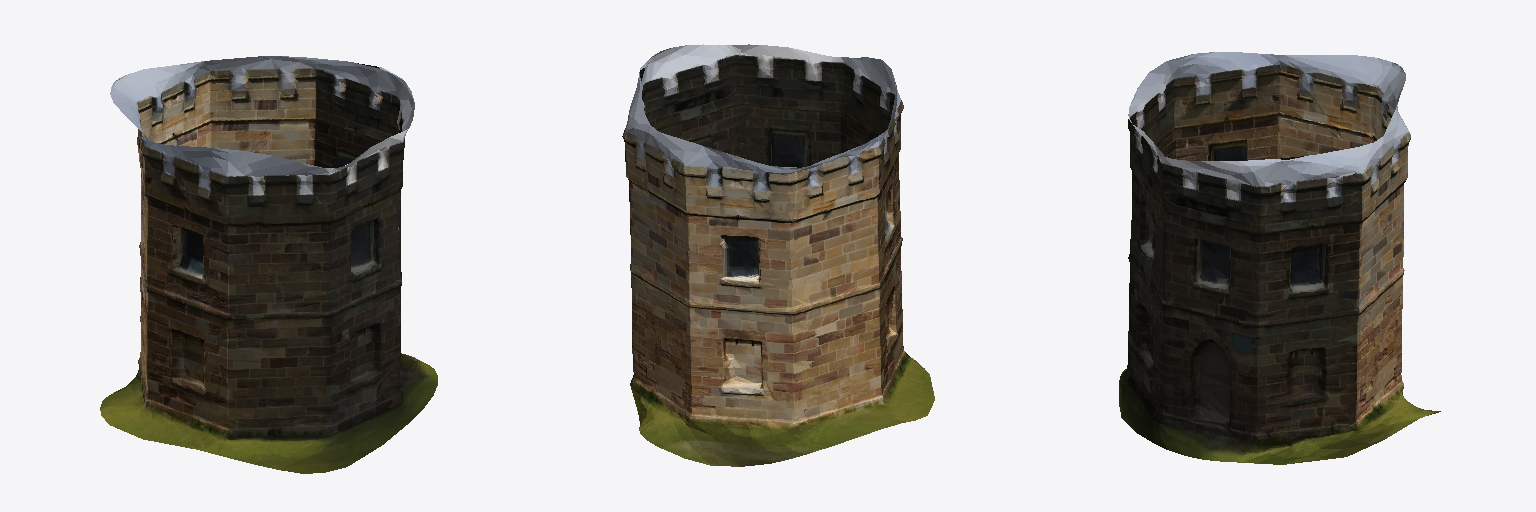
The picture shows the model from 3 angles: view 1: azimuth 30°, elevation 25°; view 2: azimuth 150°, elevation 25°; view 3: azimuth 270°, elevation 25°; orthographic projection.
Size of the model in its own units: 3.42 by 3.46 by 3.11.
Materials: 2 (1 with a texture image).